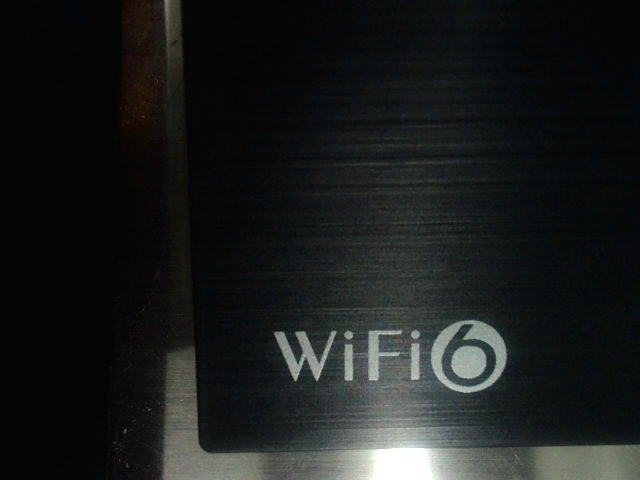AK_ZTEWIFI6Black: (256, 305, 517, 399)
